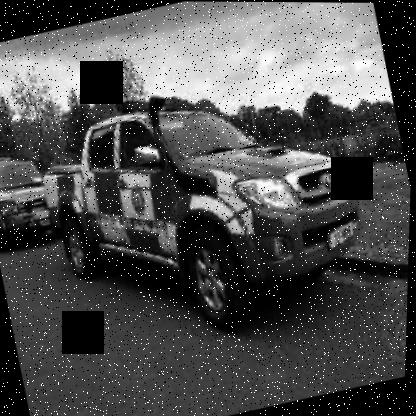emergency: (12, 47, 396, 354)
